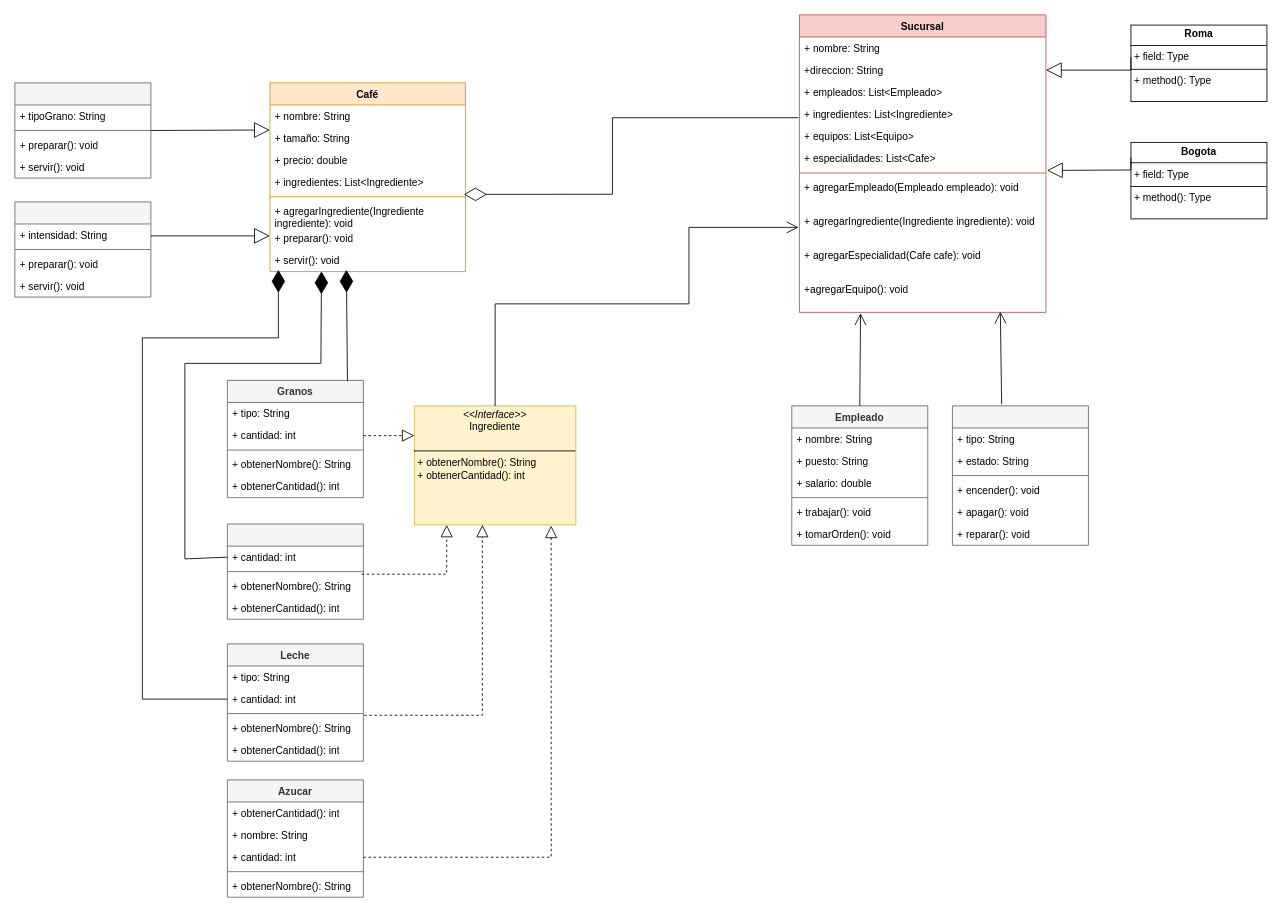
Some shapes in this 1282 by 915 pixel diagram are drawn without their labels. The box of each missing label's shape, as (x1, y1, x2, y2) in pixels:
Agua: (227, 523, 363, 619)
CafeColombiano: (14, 82, 151, 178)
Equipo: (952, 405, 1088, 545)
EspressoItaliano: (14, 201, 151, 297)
